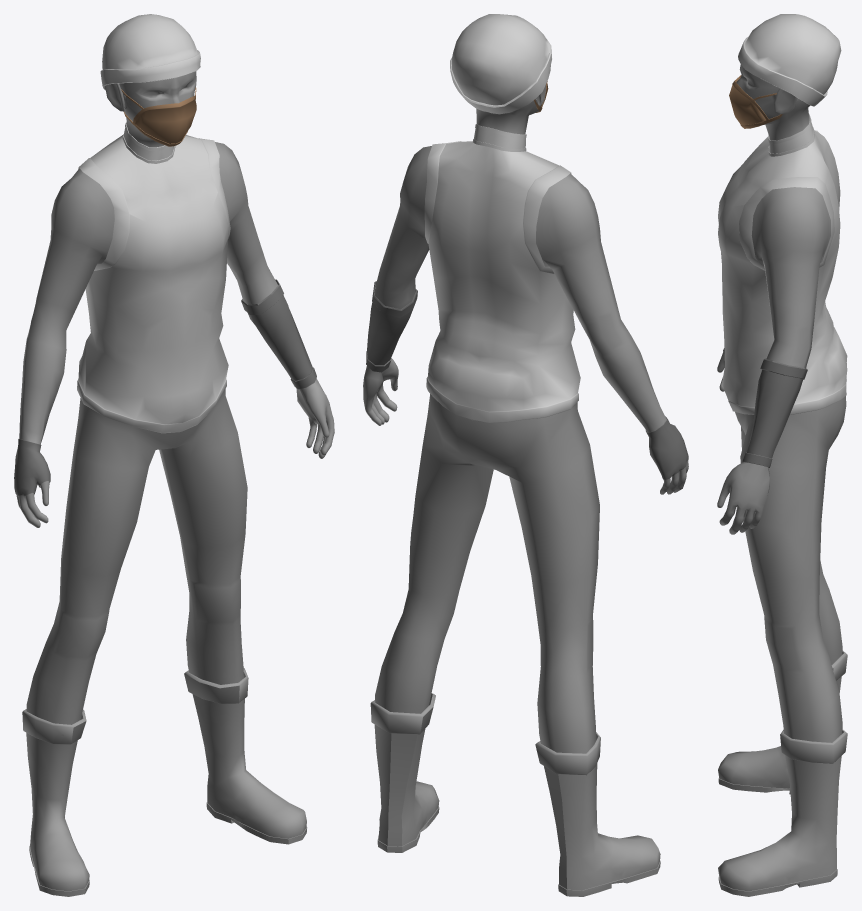
File: Protagonist character.FBX
The picture shows the model from 3 angles, left to right: view 1: azimuth 30°, elevation 25°; view 2: azimuth 150°, elevation 25°; view 3: azimuth 270°, elevation 25°; orthographic projection. The views are drawn at different scales.
Parts seen in each view (by area): view 1: Character, CLTO, Hat, gloves, mask; view 2: Character, CLTO, Hat, gloves; view 3: Character, CLTO, Hat, gloves, mask.
Part boxes in pixels (x1,y1,x2,y2): Character: (16, 71, 334, 896); CLTO: (77, 122, 230, 433); Hat: (100, 14, 200, 90); gloves: (14, 279, 316, 495); mask: (121, 87, 196, 146); Character: (363, 85, 688, 896); CLTO: (424, 124, 580, 423); Hat: (450, 14, 551, 114); gloves: (366, 281, 688, 479); Character: (717, 64, 847, 896); CLTO: (718, 114, 847, 414); Hat: (738, 14, 841, 106); gloves: (723, 348, 807, 467); mask: (729, 75, 782, 128).
Size of the model in its own units: 0.7079 by 1.78 by 0.2587.
